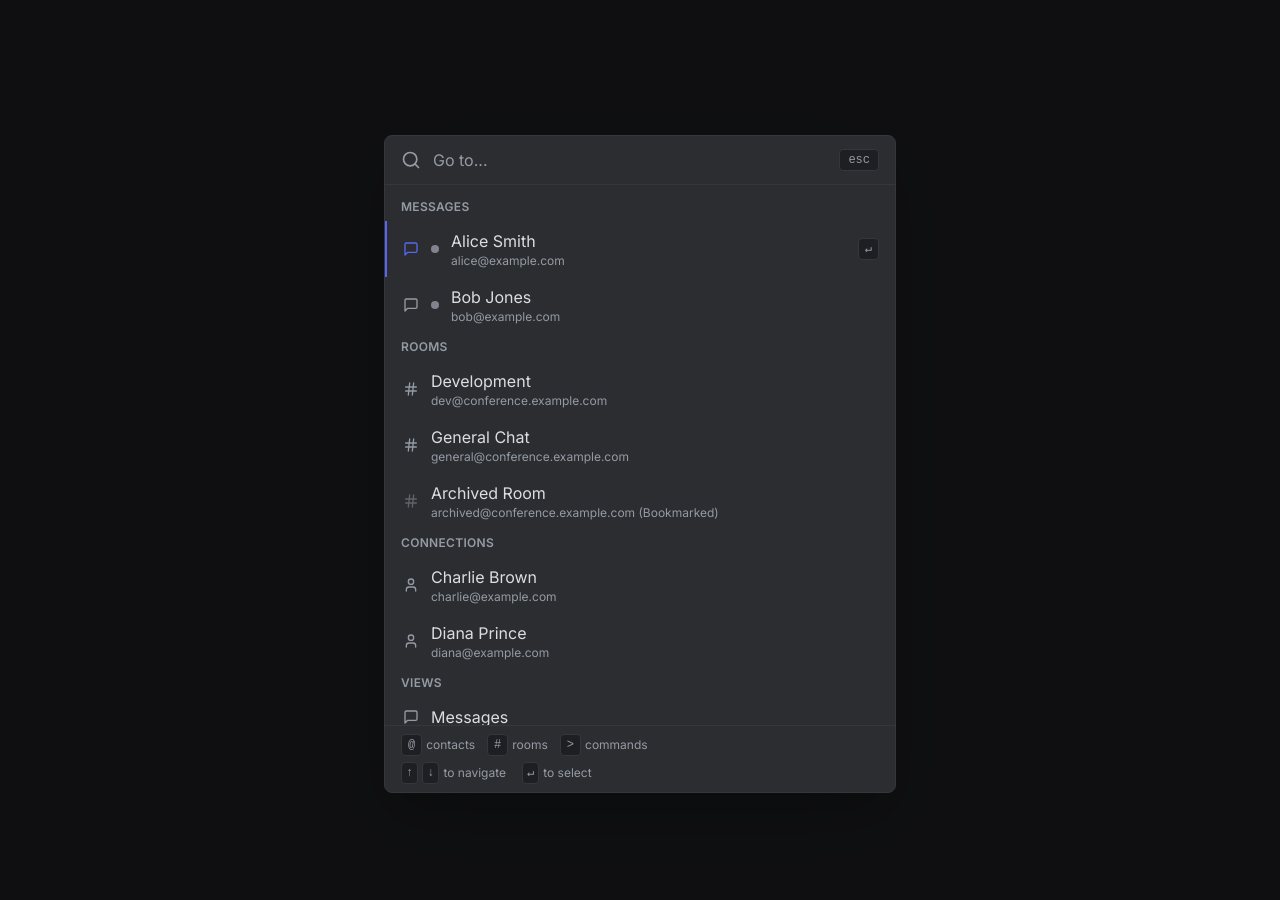
Test case: CommandPalette › Search Filtering › should filter items by JID username (not domain)
// Search by username part of JID only (bob), not the full JID with domain
Type "bob" into the field with placeholder "Go to..." at (630, 160), box [433,148,827,172]
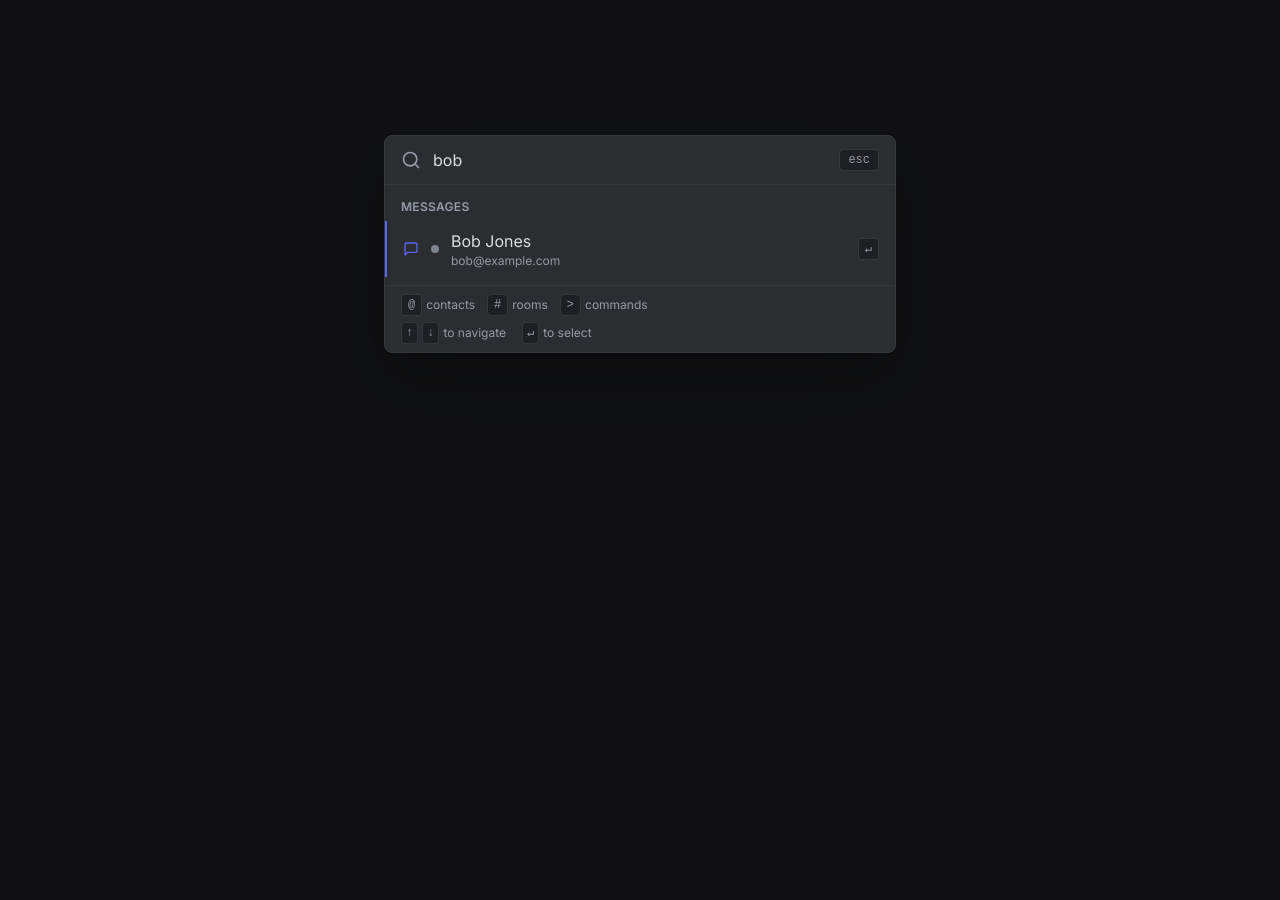
expect the text "Bob Jones" is shown: met, box [451,231,531,251]
expect the button "Alice Smith" is gone: met
